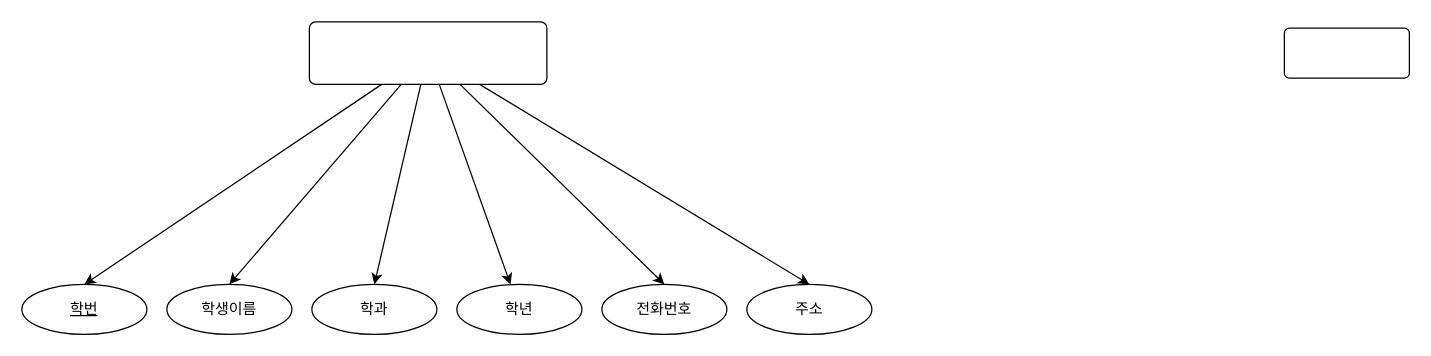
The diagram is 1431 pixels wide and 356 high, and some of its shapes have lost their labels. Each missing label, with the centre of its shape:
"Entity" belongs at (1346,52).
"학상정보" belongs at (427,52).
